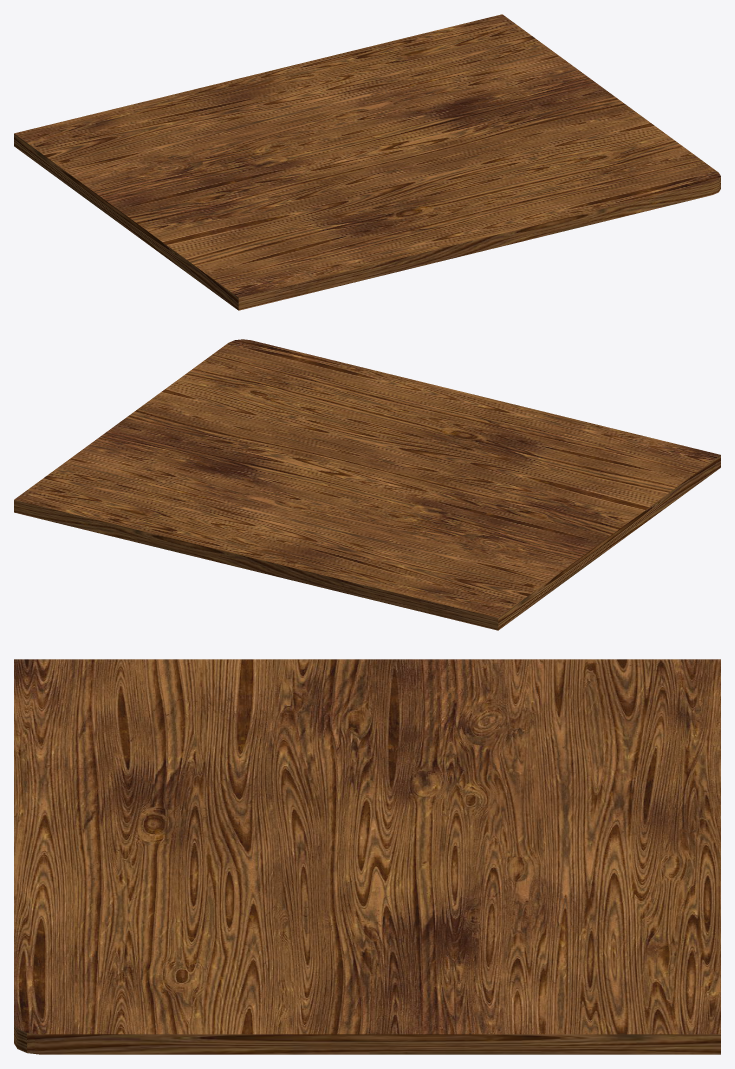
Rendered from wall.fbx.
The picture shows the model from 3 angles, top to bottom: view 1: azimuth 30°, elevation 25°; view 2: azimuth 150°, elevation 25°; view 3: azimuth 270°, elevation 25°; orthographic projection. The views are drawn at different scales.
Visible parts, largest first — view 1: Cube.003; view 2: Cube.003; view 3: Cube.003.
Boxes of the visible parts, x1,y1,x2,y2 form: Cube.003: (14,14,720,310); Cube.003: (14,339,720,630); Cube.003: (14,659,720,1054).
Size of the model in its own units: 1004 by 25.3 by 800.
Materials: 1 (1 with a texture image).
